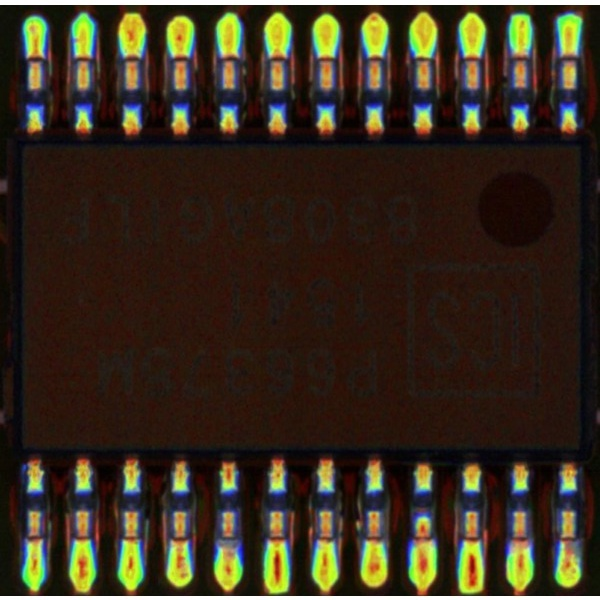Bad_podu: (417, 520, 430, 556), (515, 40, 529, 71), (270, 39, 284, 69), (563, 527, 576, 556), (126, 39, 138, 70), (174, 43, 187, 71), (29, 525, 41, 555), (223, 43, 236, 70), (174, 530, 186, 556), (30, 43, 41, 71), (564, 41, 575, 69), (369, 528, 381, 553), (78, 45, 89, 70)
